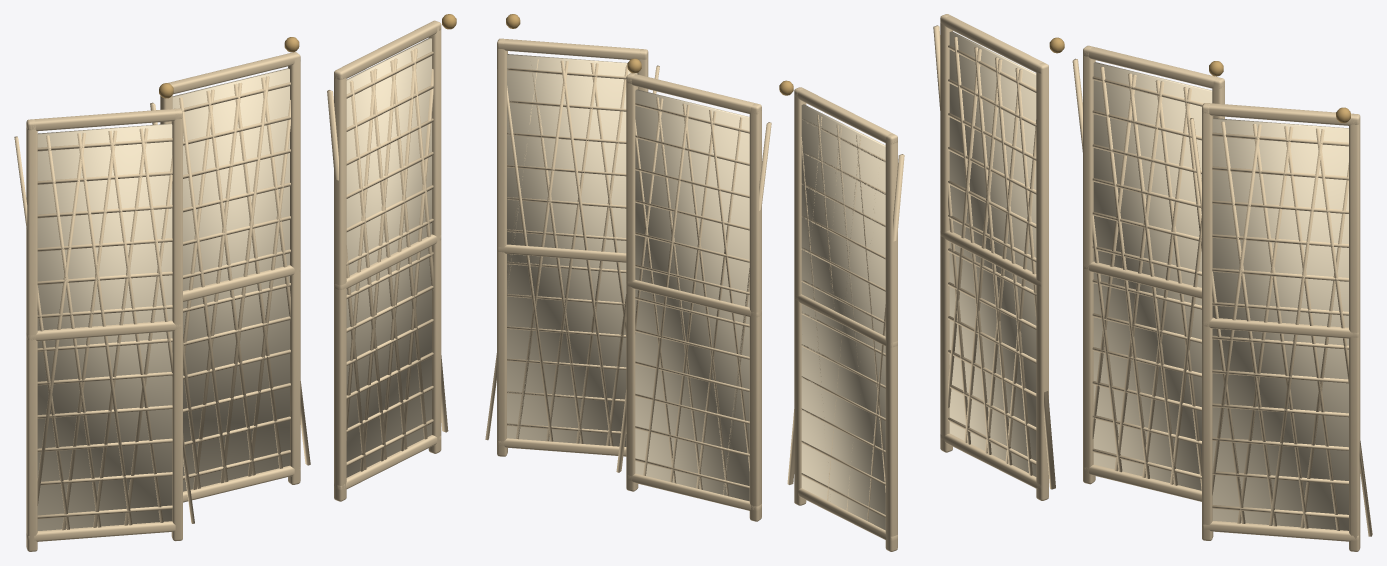
File: furn_partition.glb
The picture shows the model from 3 angles, left to right: view 1: azimuth 30°, elevation 25°; view 2: azimuth 150°, elevation 25°; view 3: azimuth 330°, elevation 25°; orthographic projection. The views are drawn at different scales.
Parts seen in each view (by area): view 1: Cube; view 2: Cube; view 3: Cube.
Boxes of the visible parts, x1,y1,x2,y2 form: Cube: (14,14,456,551); Cube: (485,14,904,551); Cube: (933,14,1372,551).
Size of the model in its own units: 1.9 by 1.87 by 0.2767.
